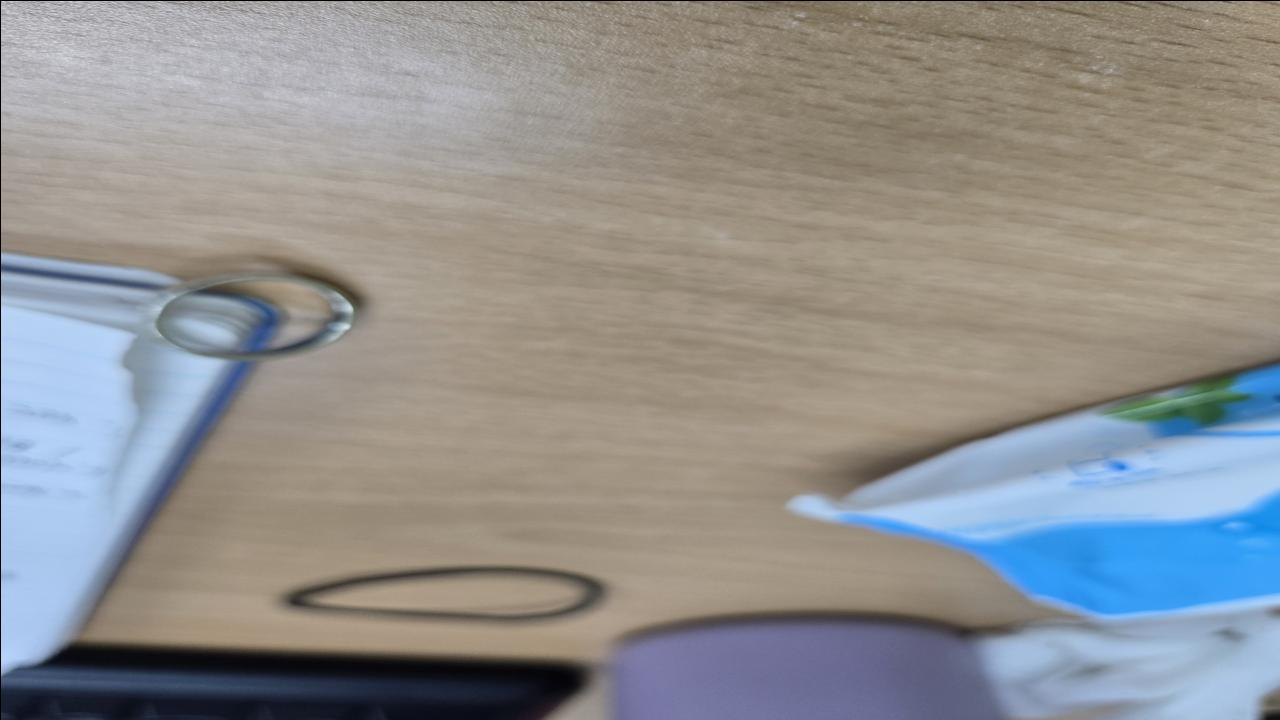ring: (142, 268, 362, 360)
